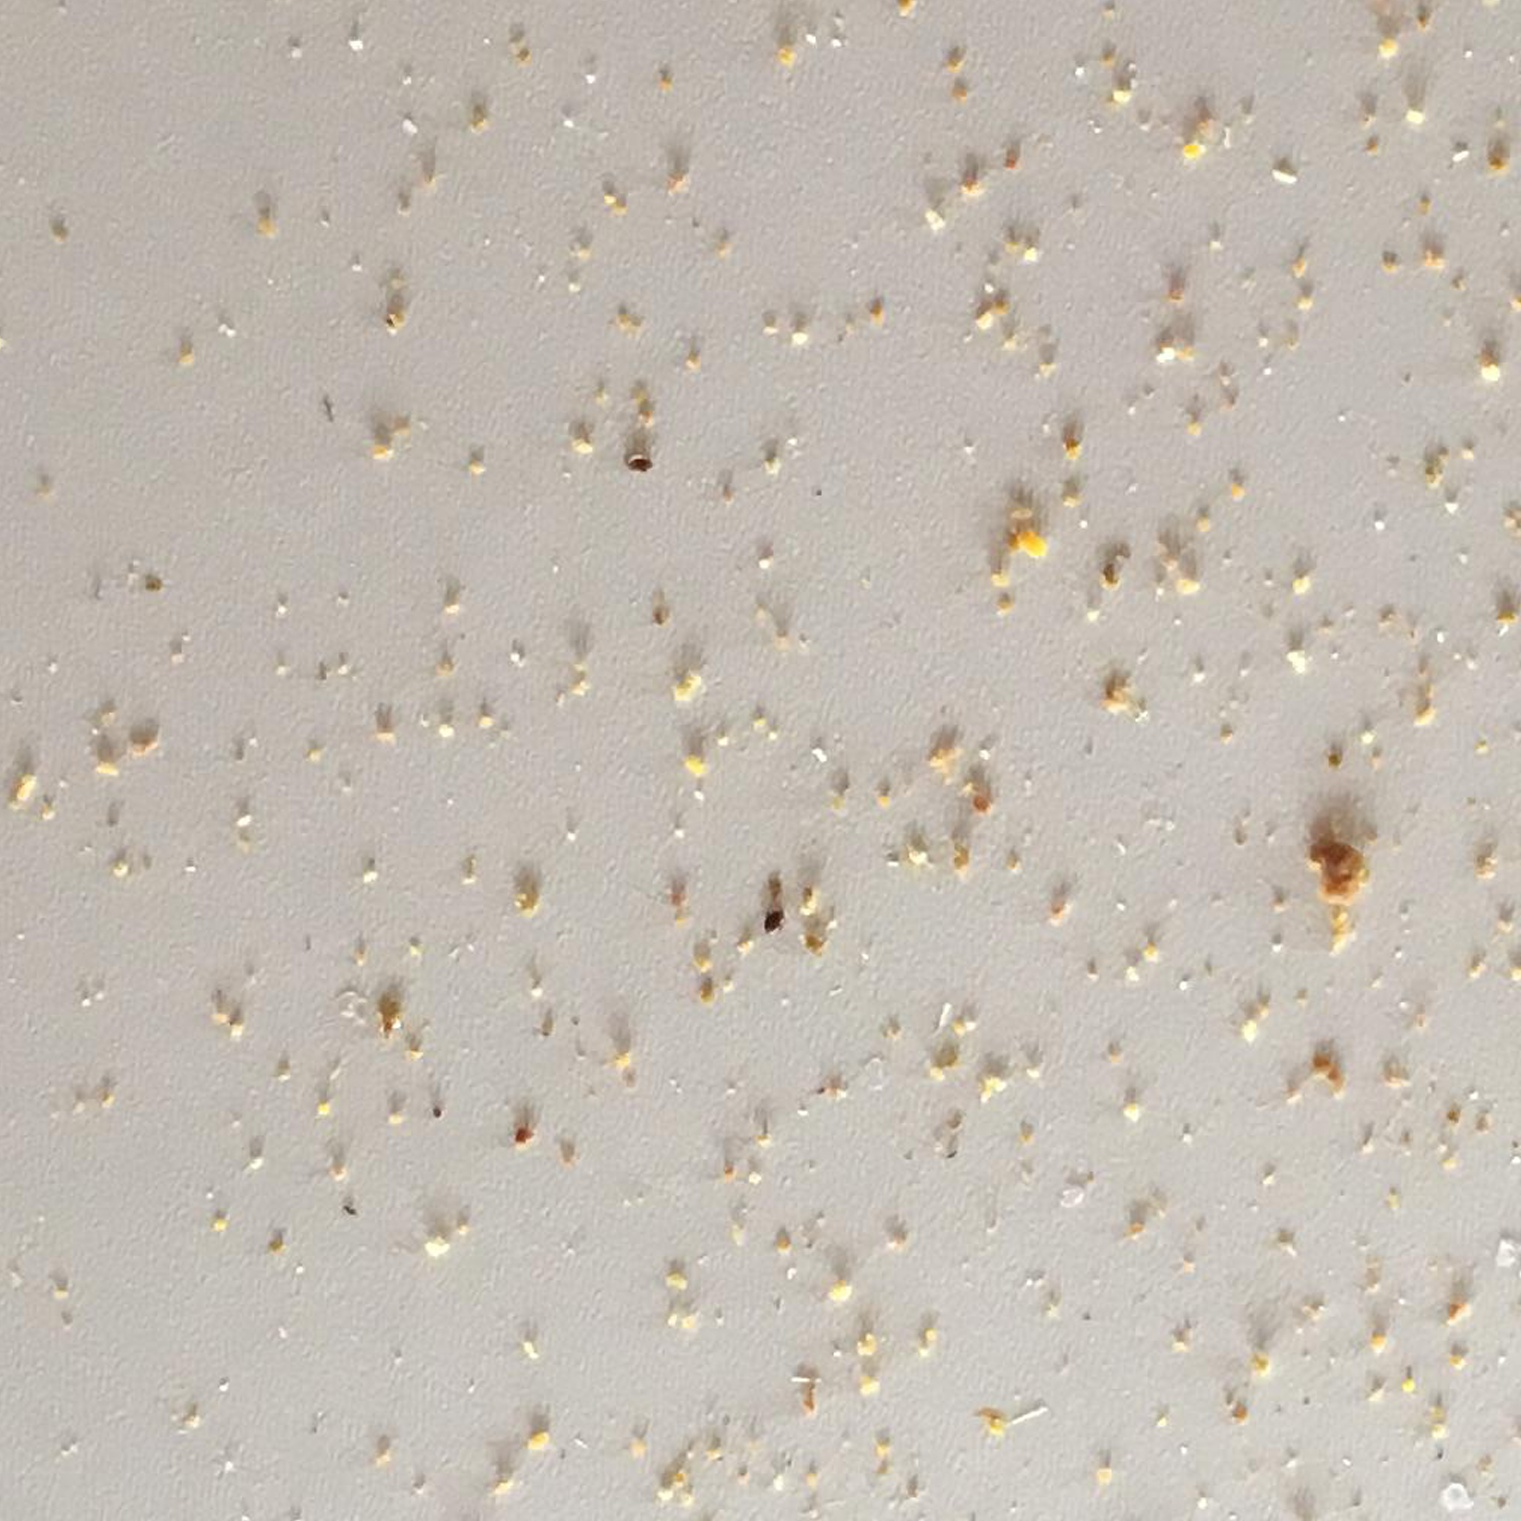Varroa: (624, 446, 650, 478), (760, 903, 787, 930)
